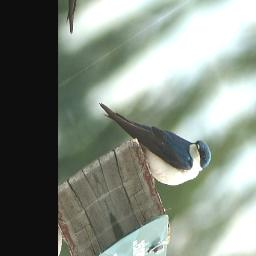Swallow: (98, 54, 216, 212)
